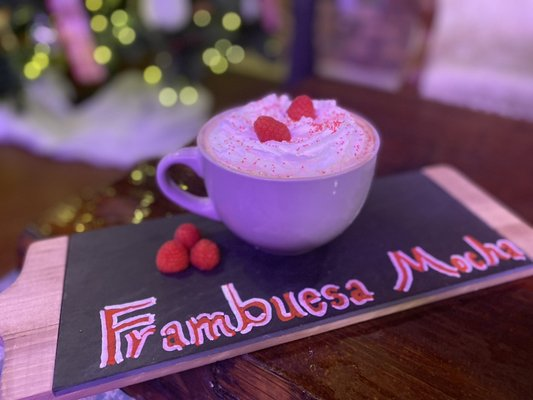pizza: (155, 92, 382, 257)
sushi: (156, 92, 382, 256)
